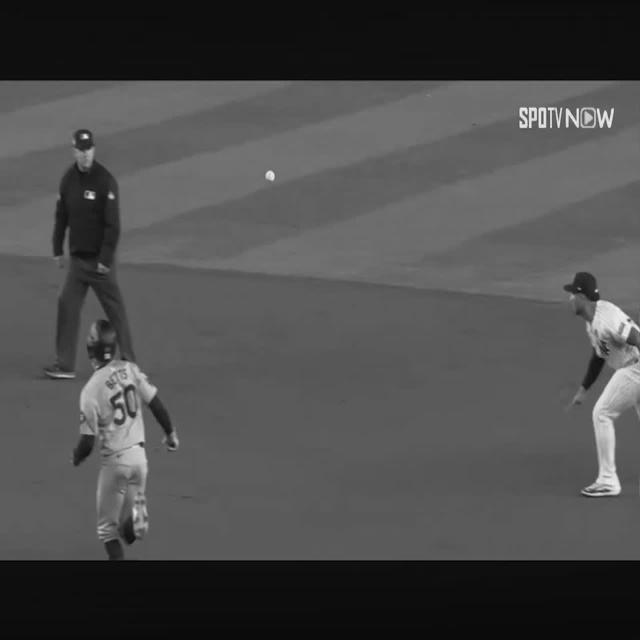baseball: (265, 170, 275, 182)
shoe: (132, 492, 149, 540), (581, 482, 621, 497), (44, 363, 75, 378)
